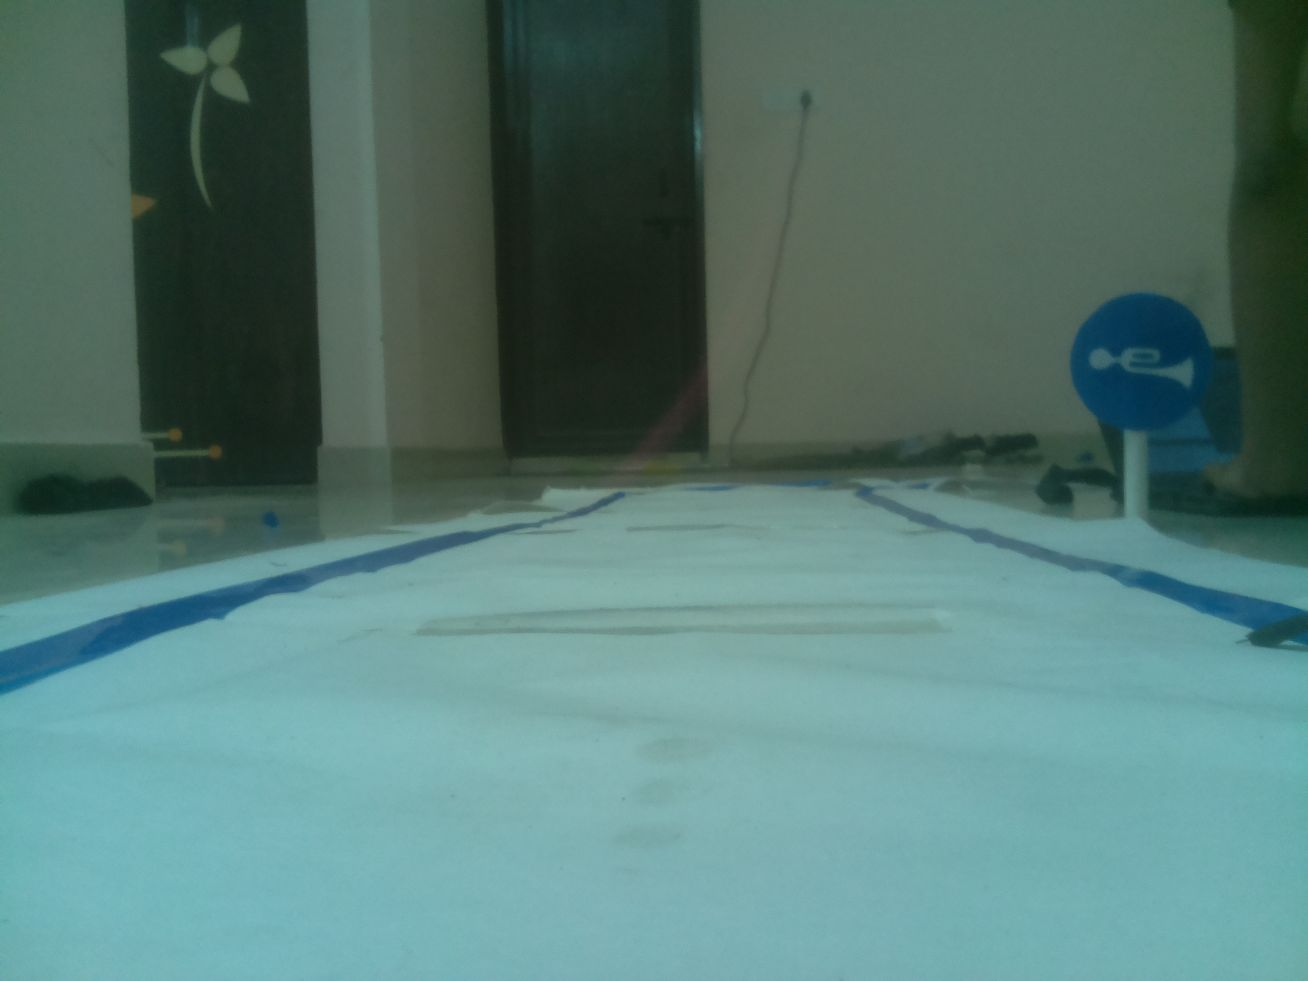blow-horn: (1071, 292, 1215, 431)
